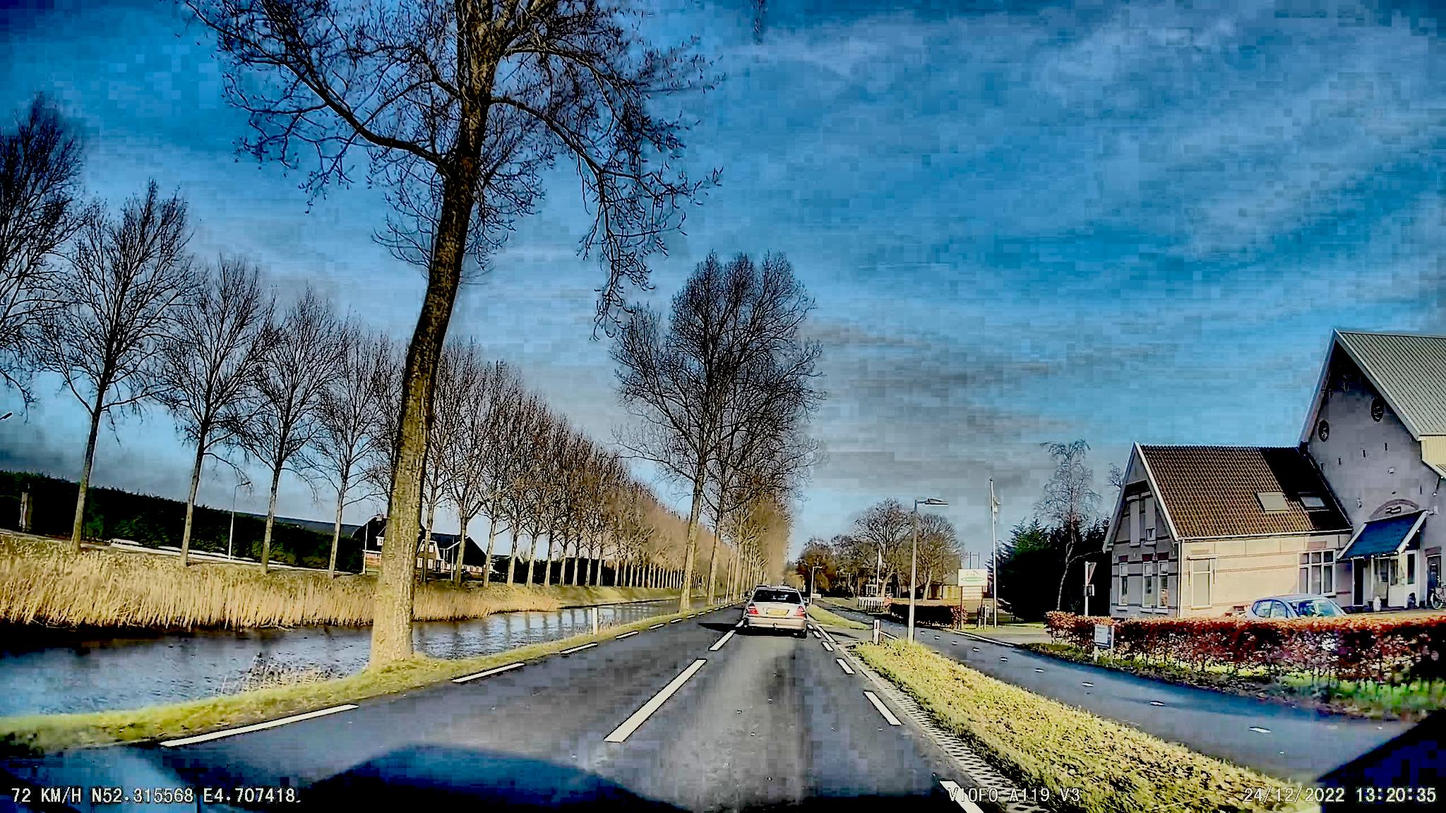Roads: (0, 606, 967, 813)
